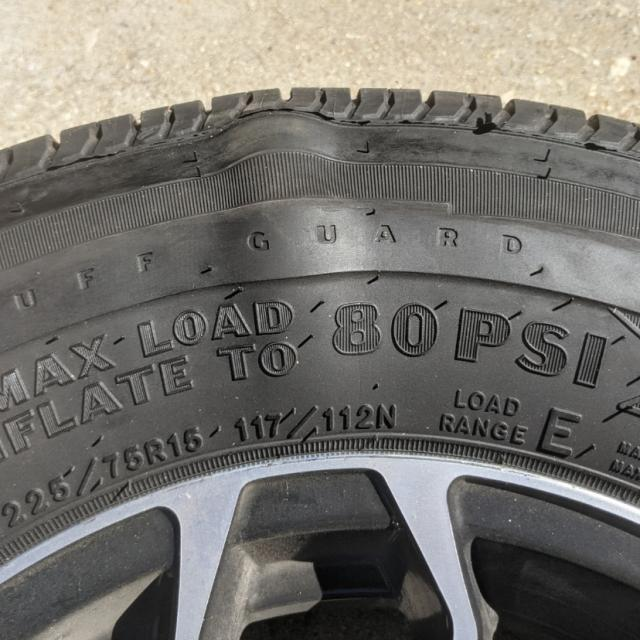Bulge: (188, 103, 395, 331)
